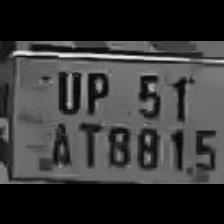1: (166, 70, 195, 124), (164, 124, 188, 170)
5: (188, 122, 220, 174), (131, 68, 163, 118)
8: (130, 122, 162, 170), (104, 120, 132, 168)
A: (44, 117, 74, 167)
P: (80, 64, 111, 114)
T: (74, 118, 102, 168)
U: (52, 63, 82, 113)
